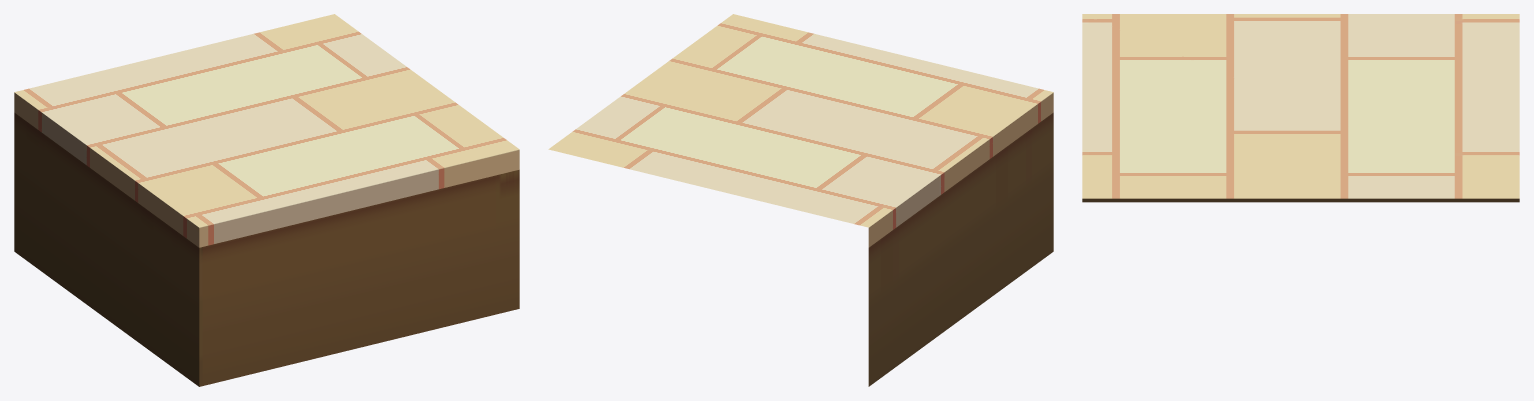
Rendered from my_autumnsports_01_tile.glb.
The picture shows the model from 3 angles, left to right: view 1: azimuth 30°, elevation 25°; view 2: azimuth 150°, elevation 25°; view 3: azimuth 270°, elevation 25°; orthographic projection. The views are drawn at different scales.
Visible parts, largest first — view 1: my_autumnsports_01_tile; view 2: my_autumnsports_01_tile; view 3: my_autumnsports_01_tile.
Boxes of the visible parts, left/top/right/bottom form: my_autumnsports_01_tile: left=14, top=14, right=519, bottom=386; my_autumnsports_01_tile: left=548, top=14, right=1053, bottom=386; my_autumnsports_01_tile: left=1082, top=14, right=1519, bottom=202.
Size of the model in its own units: 0.006 by 0.00285 by 0.006.
1 material, 1 textured.
